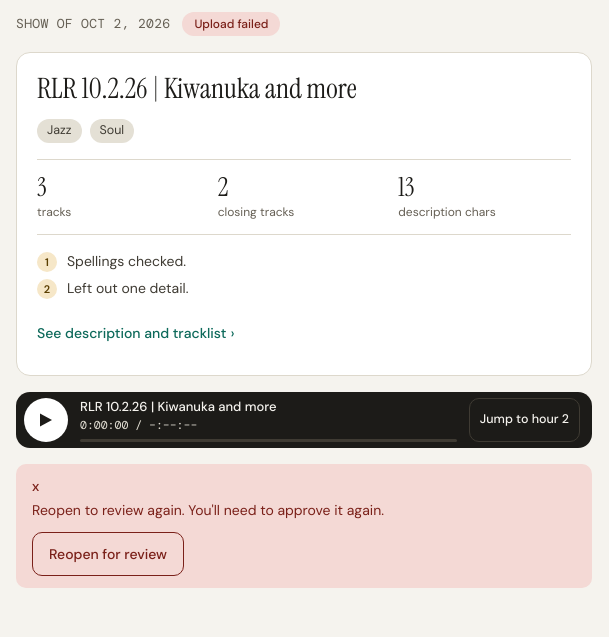
Test: PackageDecision: settling a failed or uncertain upload › a refused reopen shows why, and the button comes back
This screenshot has width=609, height=637.
Click the button "Reopen for review".
click(108, 554)  # box [32,532,184,576]
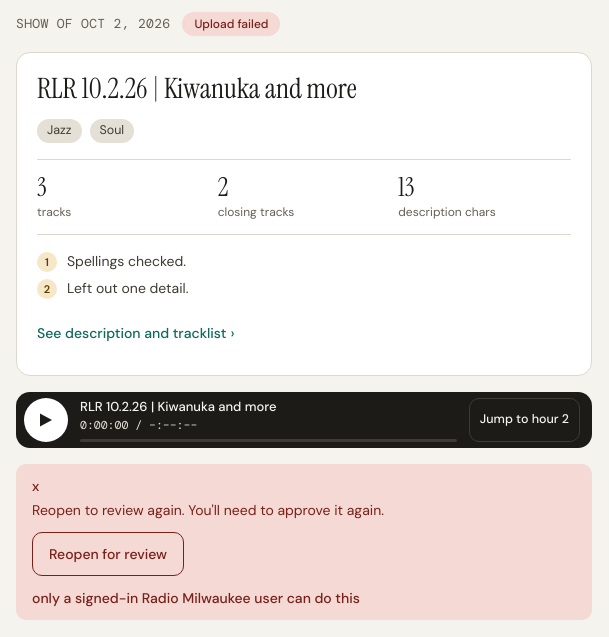
Now the message reads "only a signed-in Radio Milwaukee user can do this", box [32,589,360,607]
